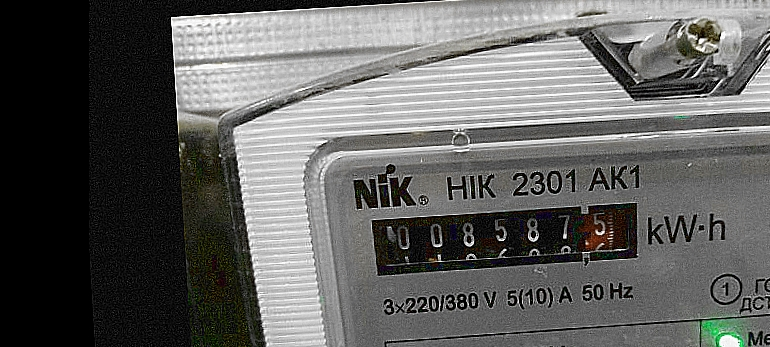0: (394, 221, 413, 251), (428, 220, 446, 249)
5: (591, 209, 610, 239), (492, 215, 510, 244)
7: (555, 210, 574, 241)
8: (524, 213, 542, 244), (460, 219, 477, 248)
screen: (353, 186, 659, 287)
